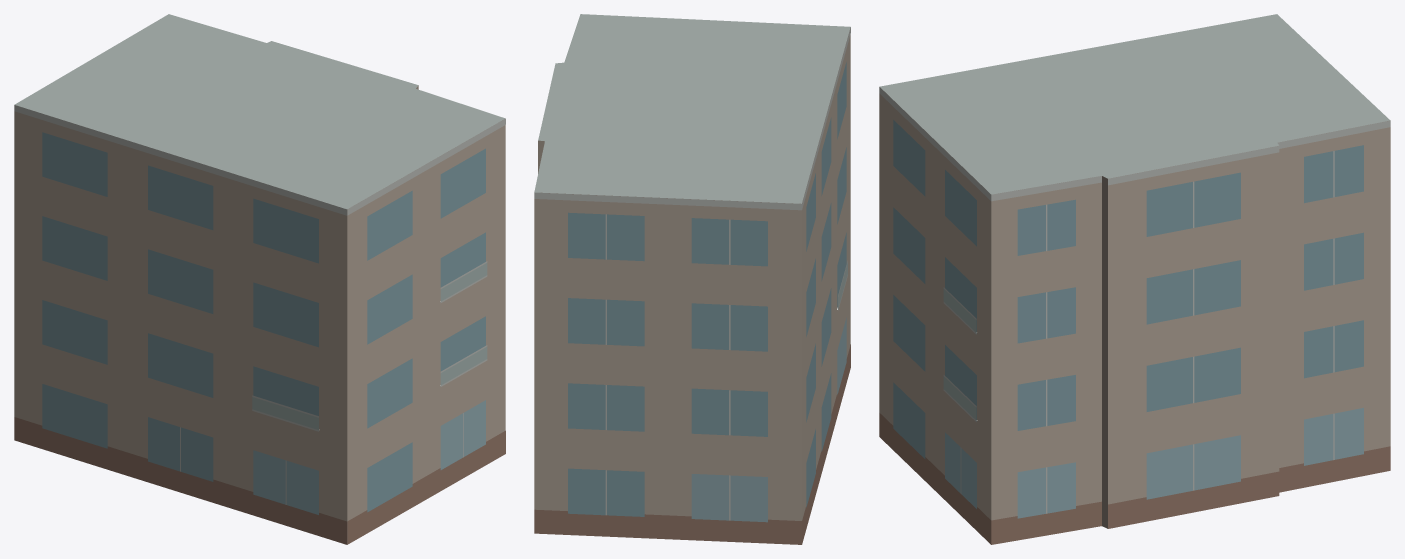
The model's file is survey-upis-32627980.glb.
3 views of the same model, side by side, from view 1: azimuth 30°, elevation 25°; view 2: azimuth 150°, elevation 25°; view 3: azimuth 270°, elevation 25° (orthographic). The views are drawn at different scales.
Parts seen in each view (by area): view 1: survey-upis-32627980.tmp; view 2: survey-upis-32627980.tmp; view 3: survey-upis-32627980.tmp.
Part boxes in pixels (box(x1,y1,x2,y2)): survey-upis-32627980.tmp: box(14, 14, 505, 544); survey-upis-32627980.tmp: box(534, 14, 850, 544); survey-upis-32627980.tmp: box(879, 14, 1390, 544).
Bounding box in the file's own units: 14.17 × 12.8 × 16.94.
